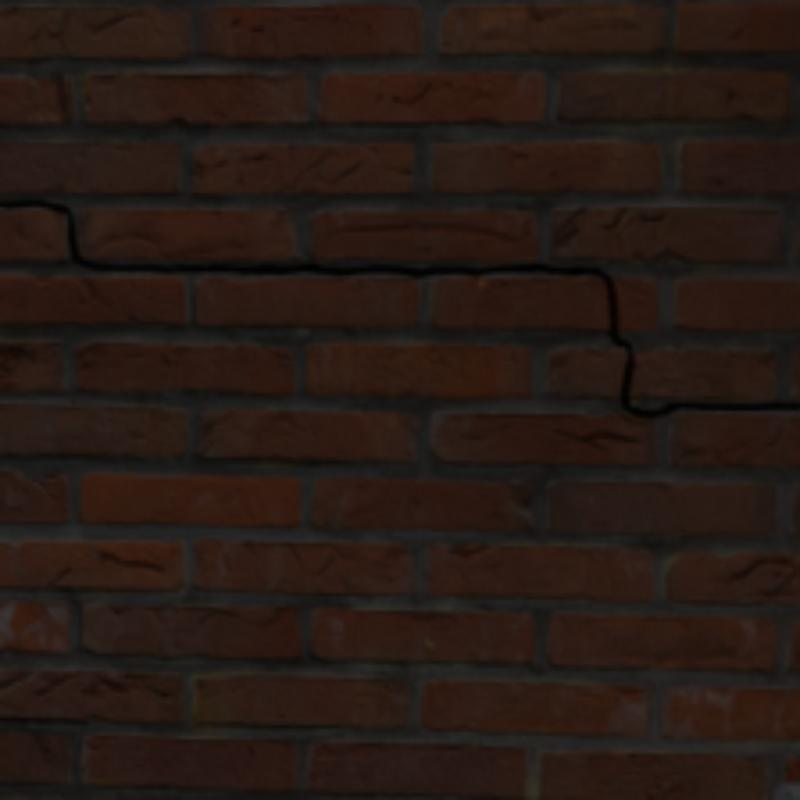pothole: (0, 200, 668, 414)
